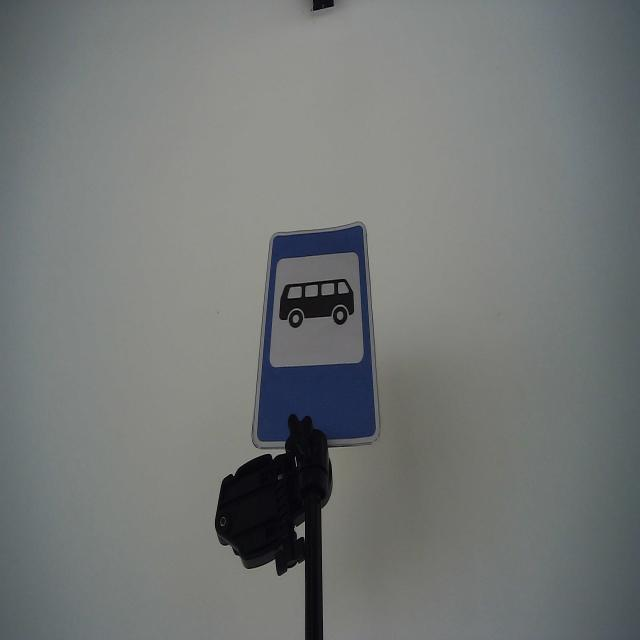bus_stop: (250, 218, 383, 450)
